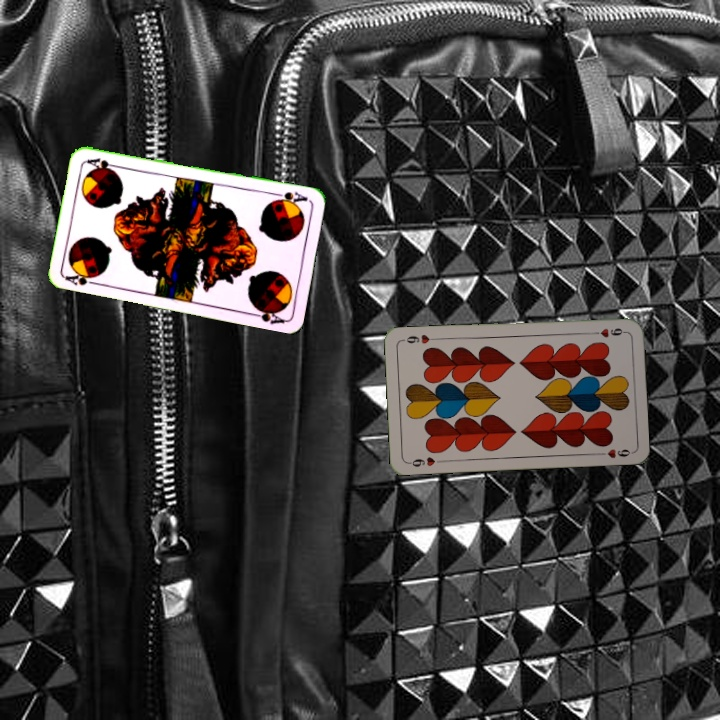H9: (404, 453, 445, 469), (587, 324, 628, 340)
SA: (269, 188, 310, 208), (62, 268, 102, 288)
